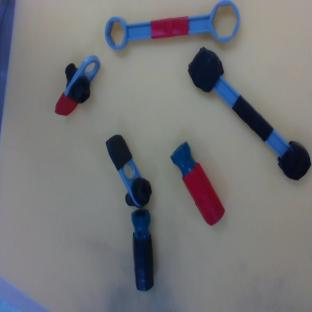part_1_bad: (97, 131, 158, 214)
part_1_good: (50, 47, 103, 122)
part_2_bad: (130, 208, 156, 291)
part_2_good: (167, 140, 228, 227)
